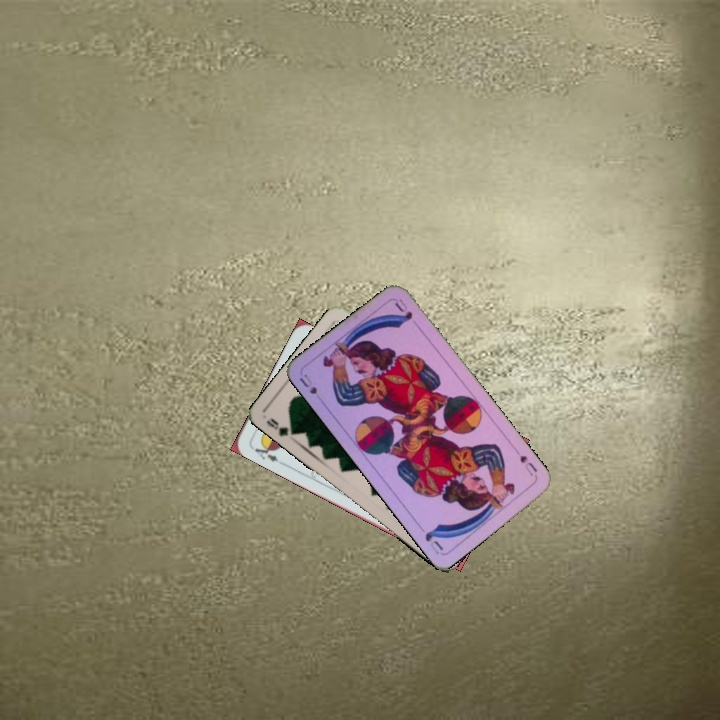EA: (248, 439, 281, 465)
G9: (262, 414, 300, 439)
SU: (295, 370, 327, 406), (511, 445, 540, 480)
